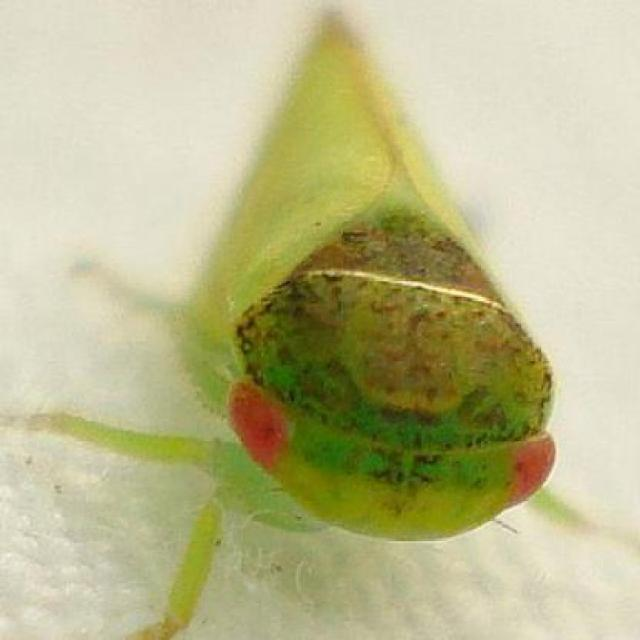green-leafhopper: (188, 42, 572, 543)
